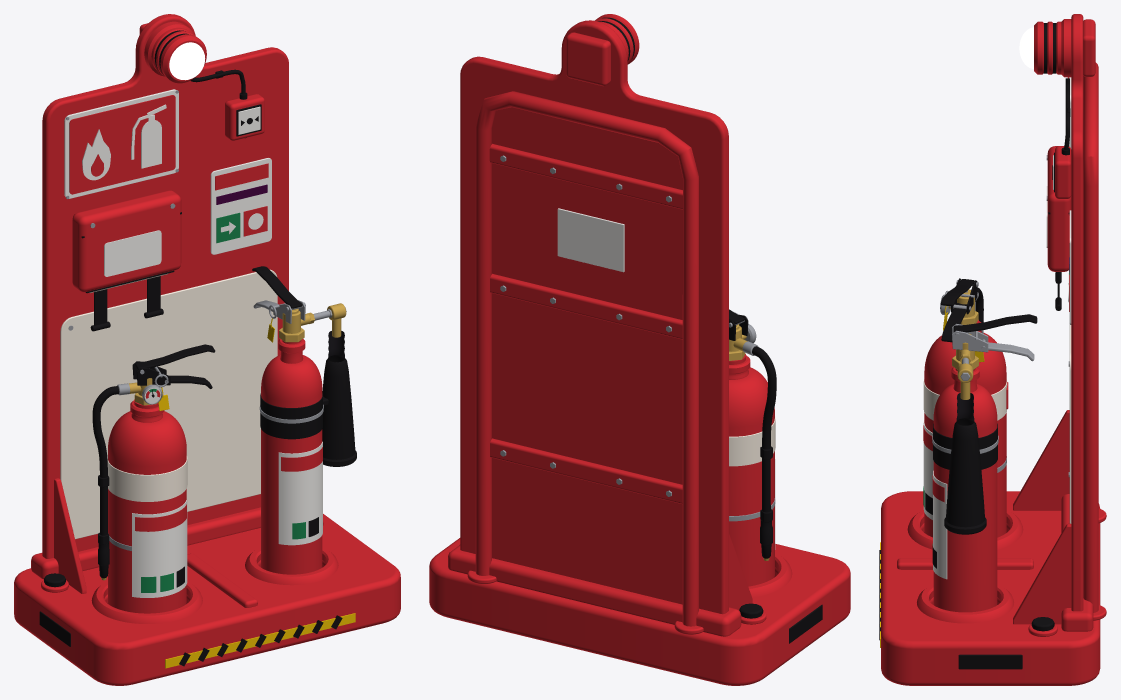
Rendered from fire.glb.
The picture shows the model from 3 angles, left to right: view 1: azimuth 30°, elevation 25°; view 2: azimuth 150°, elevation 25°; view 3: azimuth 270°, elevation 25°; orthographic projection. The views are drawn at different scales.
Visible parts, largest first — view 1: base, w_body, c_body, h_knuckle; view 2: base, w_body; view 3: base, c_body, w_body, h_knuckle.
Part boxes in pixels (box(x1,y1,x2,y2)): base: box(14, 14, 400, 685); w_body: box(92, 344, 215, 613); c_body: box(252, 266, 330, 574); h_knuckle: box(322, 303, 356, 466); base: box(429, 14, 850, 685); w_body: box(729, 309, 776, 586); base: box(879, 14, 1106, 685); c_body: box(932, 314, 1037, 612); w_body: box(923, 278, 1008, 537); h_knuckle: box(944, 363, 986, 534).
Bounding box in the file's own units: 0.804 × 1.45 × 0.4975.
